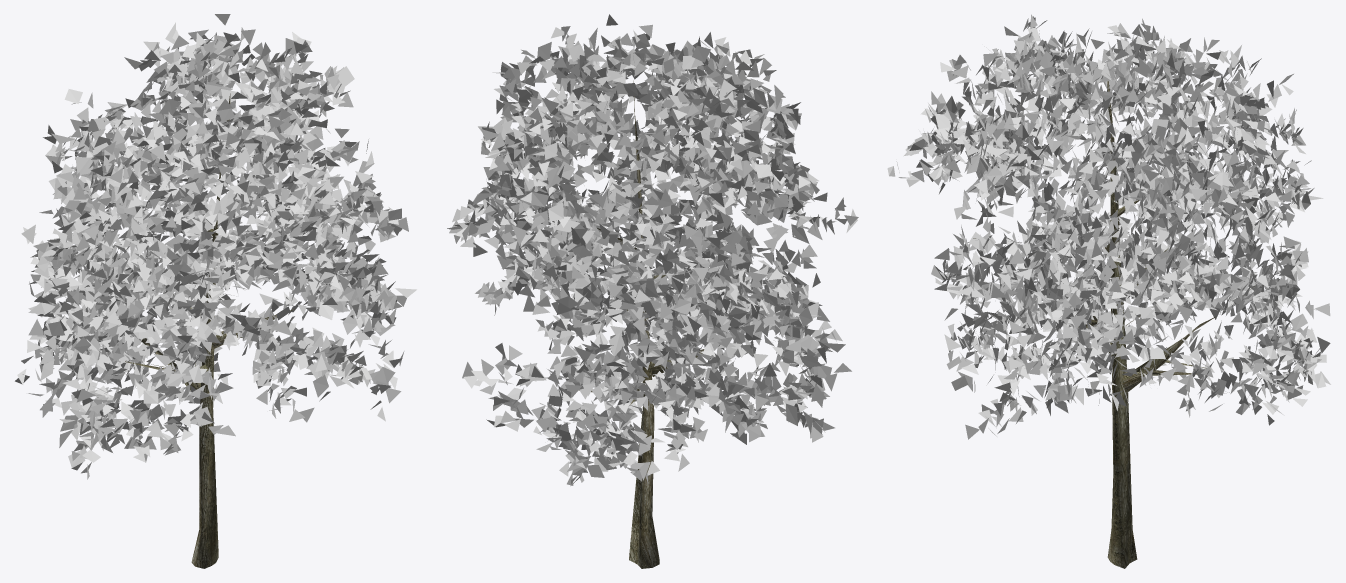
The model's file is tree.glb.
The picture shows the model from 3 angles, left to right: view 1: azimuth 30°, elevation 25°; view 2: azimuth 150°, elevation 25°; view 3: azimuth 270°, elevation 25°; orthographic projection. The views are drawn at different scales.
Parts seen in each view (by area): view 1: 45K; view 2: 45K; view 3: 45K.
Part boxes in pixels (bbox=[...]): 45K: bbox=[15, 14, 416, 568]; 45K: bbox=[447, 14, 858, 568]; 45K: bbox=[887, 14, 1330, 568].
Size of what is drawn, in the model's own units: 5.42 by 7.22 by 5.3.
2 materials, 1 textured.
